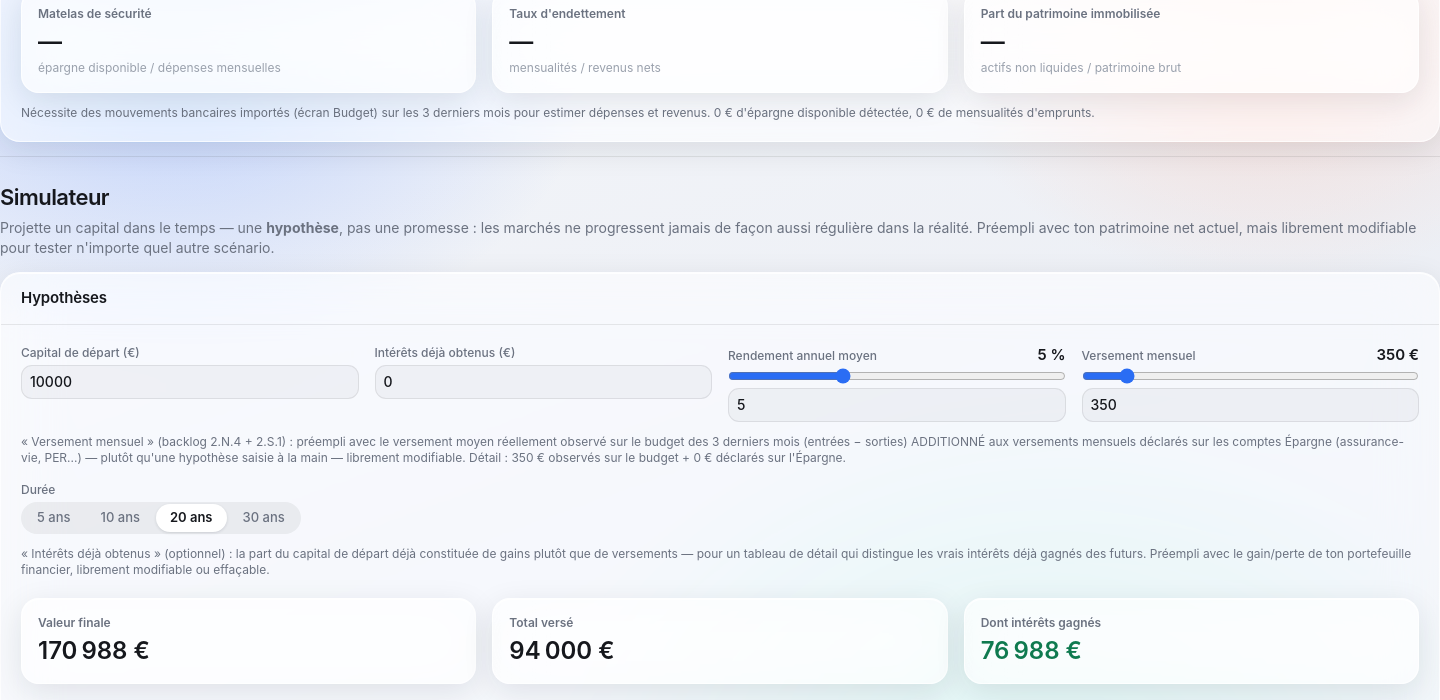
it: SimulateurPage › Versement mensuel suggéré (backlog 2.N.4) › un versement modifié fait apparaître un bouton pour revenir au versement observé
(page scrolled)
Replace the text in the number field named "Versement mensuel (€)" with "600": (1250, 406) [1082,388,1419,422]
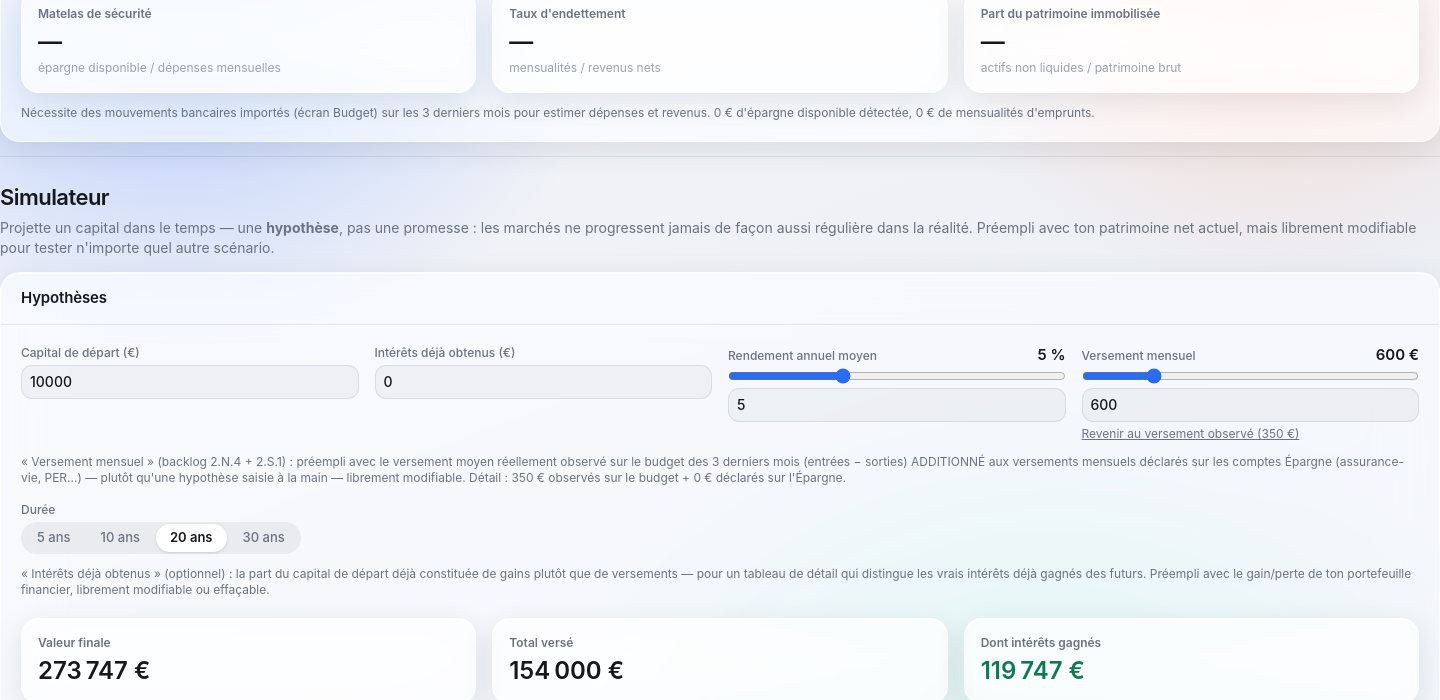
Click the button "Revenir au versement observé (350 €)": (1250, 434) [1082,426,1419,442]
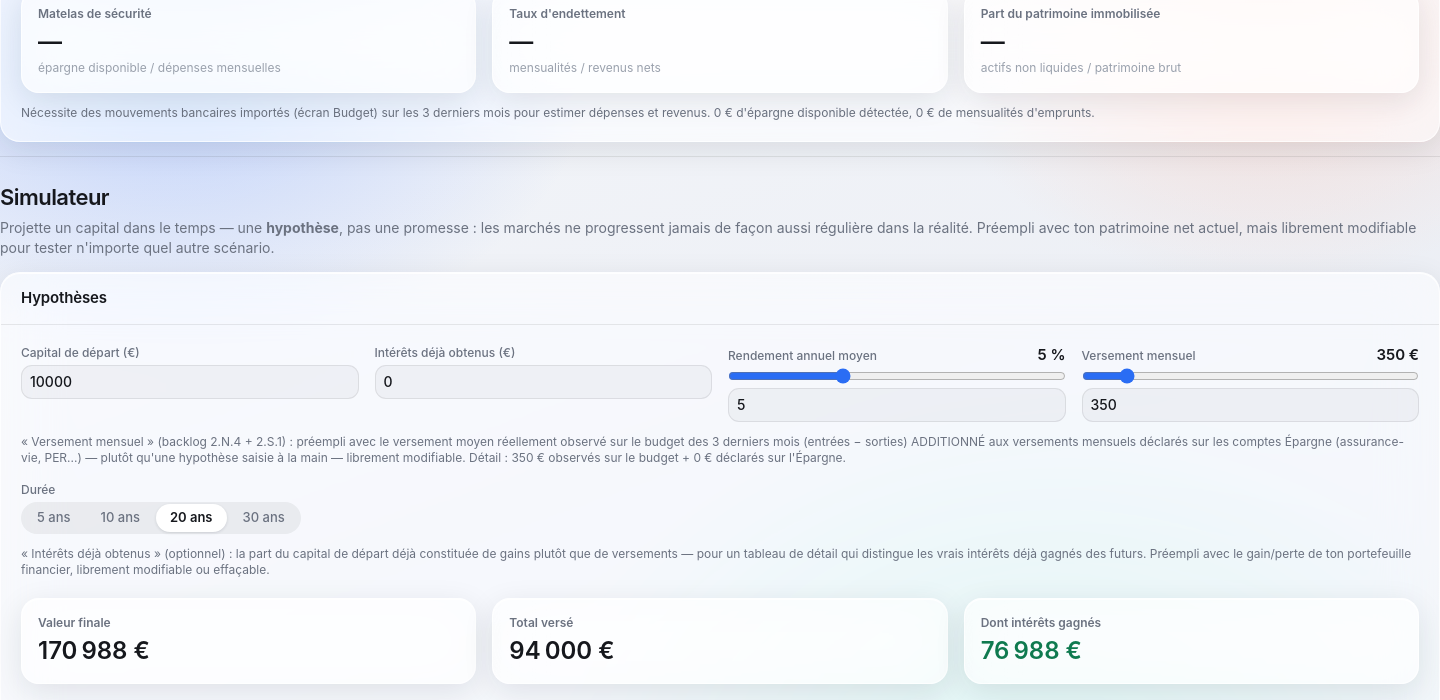
Check: the number field named "Versement mensuel (€)" holds "350", box [1082,388,1419,422]
Check: the button "Revenir au versement observé" is gone
